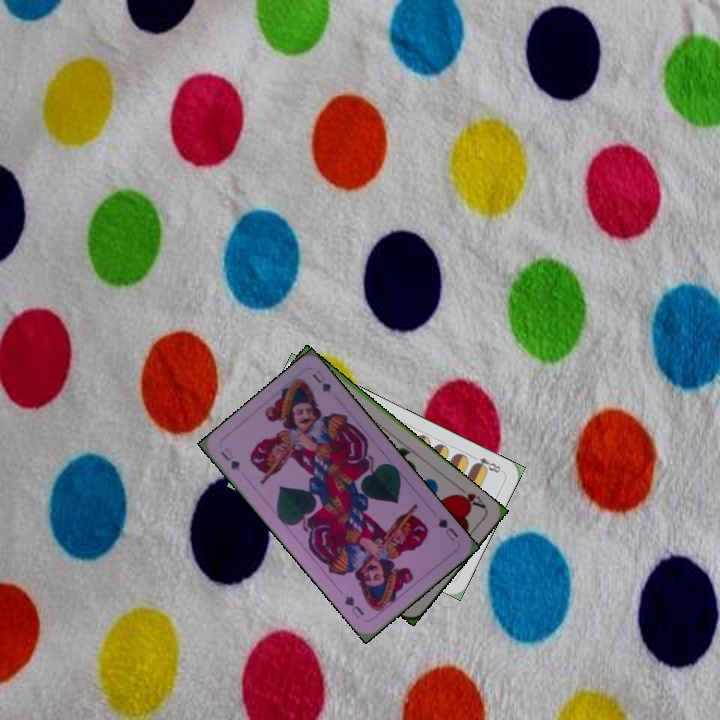E8: (467, 451, 503, 475)
GU: (434, 514, 461, 544), (216, 443, 243, 473)
HA: (451, 482, 488, 512)
